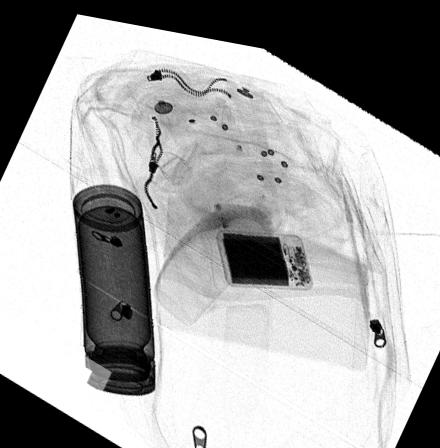Powerbank: (214, 218, 313, 279)
